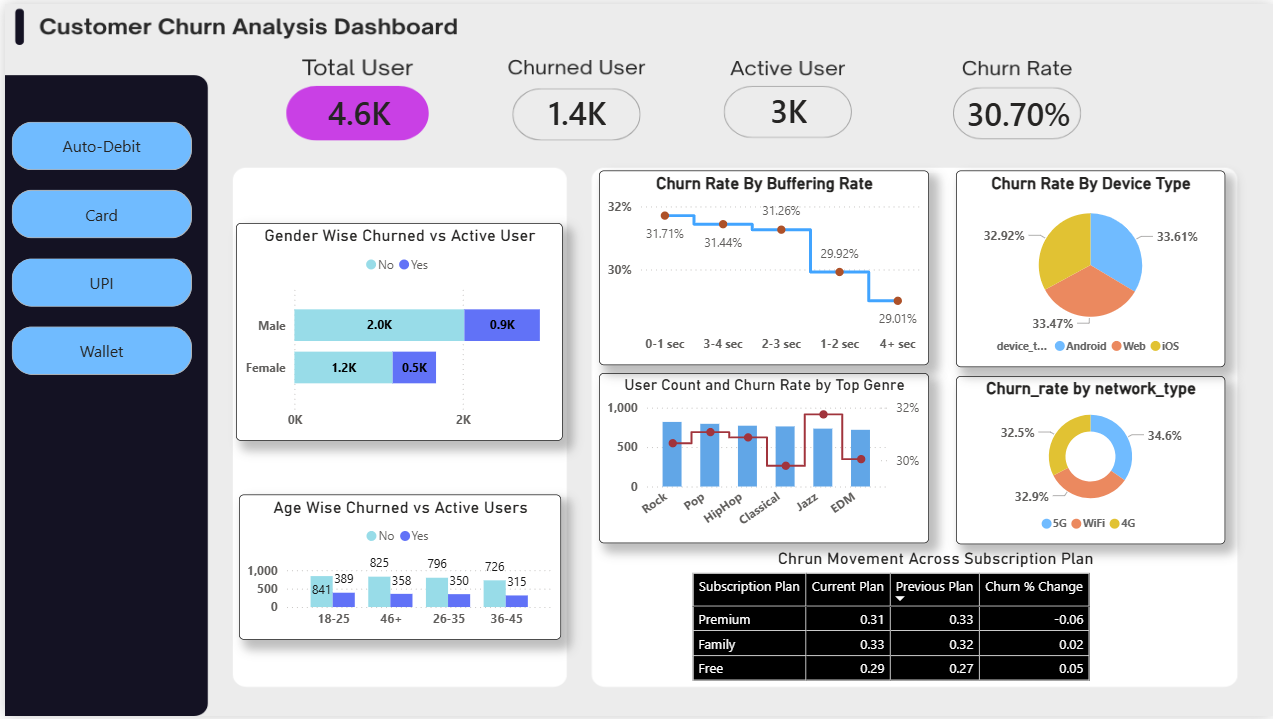

This screenshot's page, from the dashboard's own definition file:
{"tool":"powerbi","page":{"name":"Page 1","canvas":[1280,720],"ordinal":0},"visuals":[{"type":"cardVisual","fields":{"Data":["churn_analysis_dataset.Total_user"]},"box":[296.7,73.3,170,70],"z":0},{"type":"cardVisual","fields":{"Data":["churn_analysis_dataset.Churned_users"]},"box":[520,73.3,160,70],"z":1000},{"type":"cardVisual","fields":{"Data":["churn_analysis_dataset.Churn_rate"]},"box":[942,66,166,84],"z":2000},{"type":"barChart","title":"Gender Wise Churned vs Active User","fields":{"Y":["CountNonNull(churn_analysis_dataset.user_id)"],"Category":["churn_analysis_dataset.gender"],"Series":["churn_analysis_dataset.is_churned"]},"box":[233.3,221.7,330,220],"z":3000},{"type":"clusteredColumnChart","title":"Age Wise Churned vs Active Users","fields":{"Category":["churn_analysis_dataset.age_group"],"Series":["churn_analysis_dataset.is_churned"],"Y":["CountNonNull(churn_analysis_dataset.user_id)"]},"box":[236.7,495,325,146.7],"z":4000},{"type":"pieChart","title":"Churn Rate By Device Type","fields":{"Y":["churn_analysis_dataset.Churn_rate"],"Category":["churn_analysis_dataset.device_type"]},"box":[960,168.3,271.7,198.3],"z":5000},{"type":"lineChart","title":"Churn Rate By Buffering Rate","fields":{"Category":["churn_analysis_dataset.Buffering"],"Y":["churn_analysis_dataset.Churn_rate"]},"box":[600,168.3,333.3,196.7],"z":6000},{"type":"lineClusteredColumnComboChart","title":"User Count and Churn Rate by Top Genre","fields":{"Category":["churn_analysis_dataset.top_genre"],"Y":["CountNonNull(churn_analysis_dataset.user_id)"],"Y2":["churn_analysis_dataset.Churn_rate"]},"box":[600,373.3,333.3,171.7],"z":7000},{"type":"donutChart","fields":{"Category":["churn_analysis_dataset.network_type"],"Y":["churn_analysis_dataset.Churn_rate"]},"box":[960,375,271.7,170],"z":8000},{"type":"pivotTable","title":"Chrun Movement Across Subscription Plan","fields":{"Rows":["churn_analysis_dataset.subscription_plan"],"Values":["churn_analysis_dataset.current_plan_churn_rate","churn_analysis_dataset.previous_plan_churn_rate","churn_analysis_dataset.churn % change"]},"box":[690,550,501.7,148.3],"z":9000},{"type":"advancedSlicerVisual","fields":{"Values":["churn_analysis_dataset.payment_method"]},"box":[2,114,192,268],"z":10000},{"type":"cardVisual","fields":{"Data":["churn_analysis_dataset.Active_user"]},"box":[743.3,16.7,151.7,178.3],"z":11000}]}

Visuals, with their boxes in screenshot pixels (x1, y1, x2, y2), scaled from the page's 1280x720 canvas onto the 1273x719 screenshot:
cardVisual - churn_analysis_dataset.Total_user: box=[295, 73, 464, 143]
cardVisual - churn_analysis_dataset.Churned_users: box=[517, 73, 676, 143]
cardVisual - churn_analysis_dataset.Churn_rate: box=[937, 66, 1102, 150]
"Gender Wise Churned vs Active User" barChart: box=[232, 221, 560, 441]
"Age Wise Churned vs Active Users" clusteredColumnChart: box=[235, 494, 559, 641]
"Churn Rate By Device Type" pieChart: box=[955, 168, 1225, 366]
"Churn Rate By Buffering Rate" lineChart: box=[597, 168, 928, 364]
"User Count and Churn Rate by Top Genre" lineClusteredColumnComboChart: box=[597, 373, 928, 544]
donutChart - churn_analysis_dataset.network_type x churn_analysis_dataset.Churn_rate: box=[955, 374, 1225, 544]
"Chrun Movement Across Subscription Plan" pivotTable: box=[686, 549, 1185, 697]
advancedSlicerVisual - churn_analysis_dataset.payment_method: box=[2, 114, 193, 381]
cardVisual - churn_analysis_dataset.Active_user: box=[739, 17, 890, 195]
